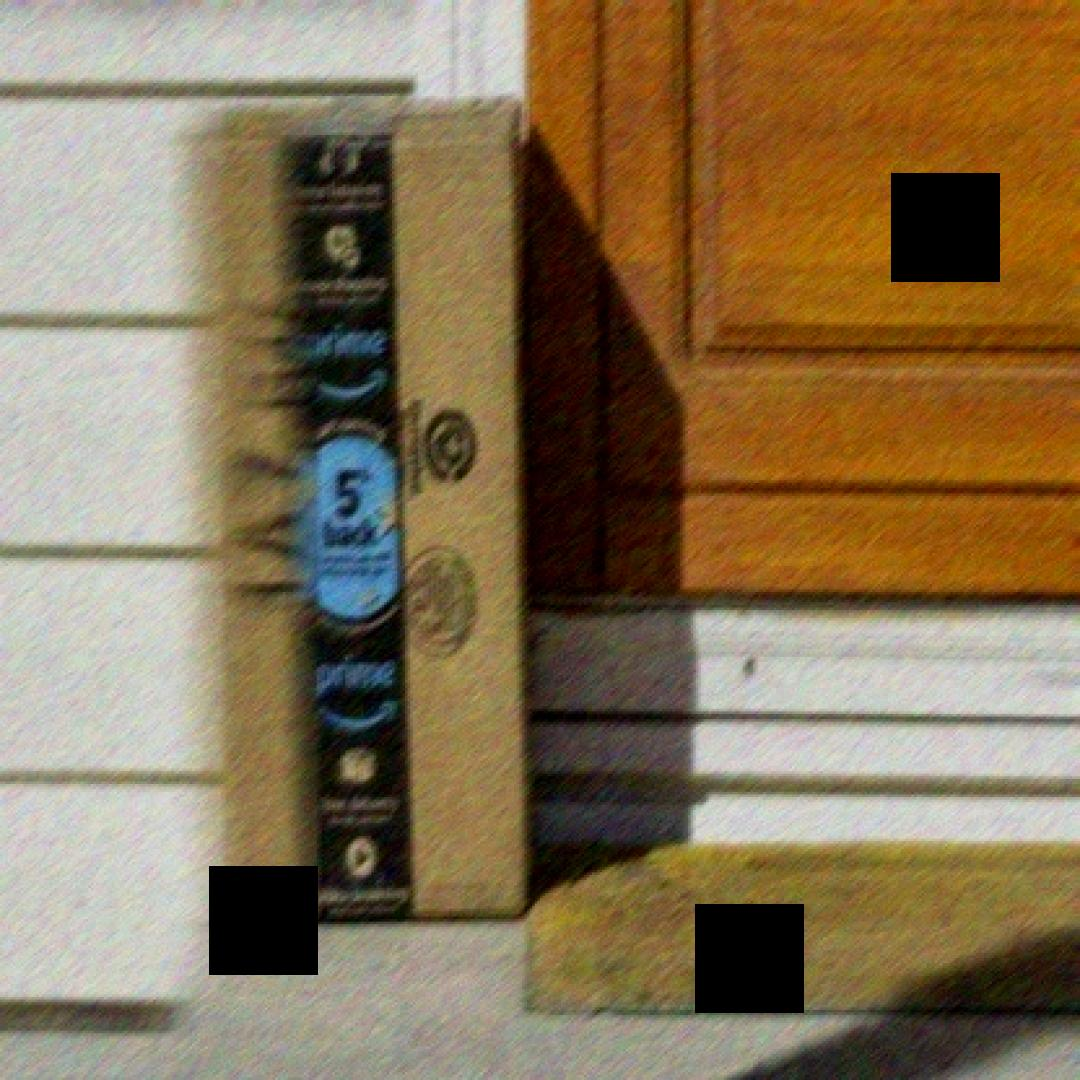package: (192, 83, 540, 932)
